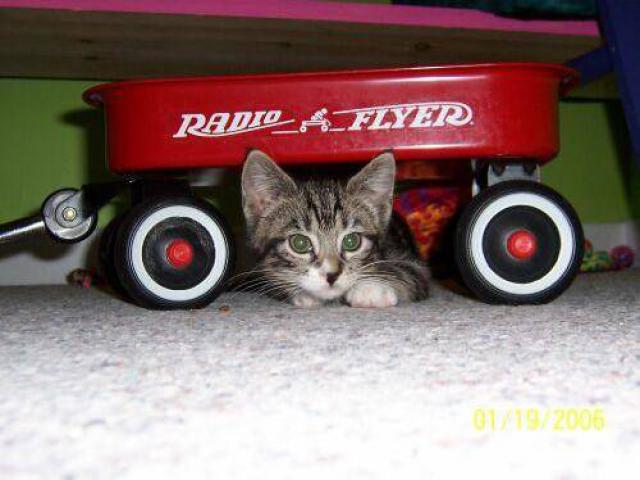cat: (225, 143, 446, 334)
